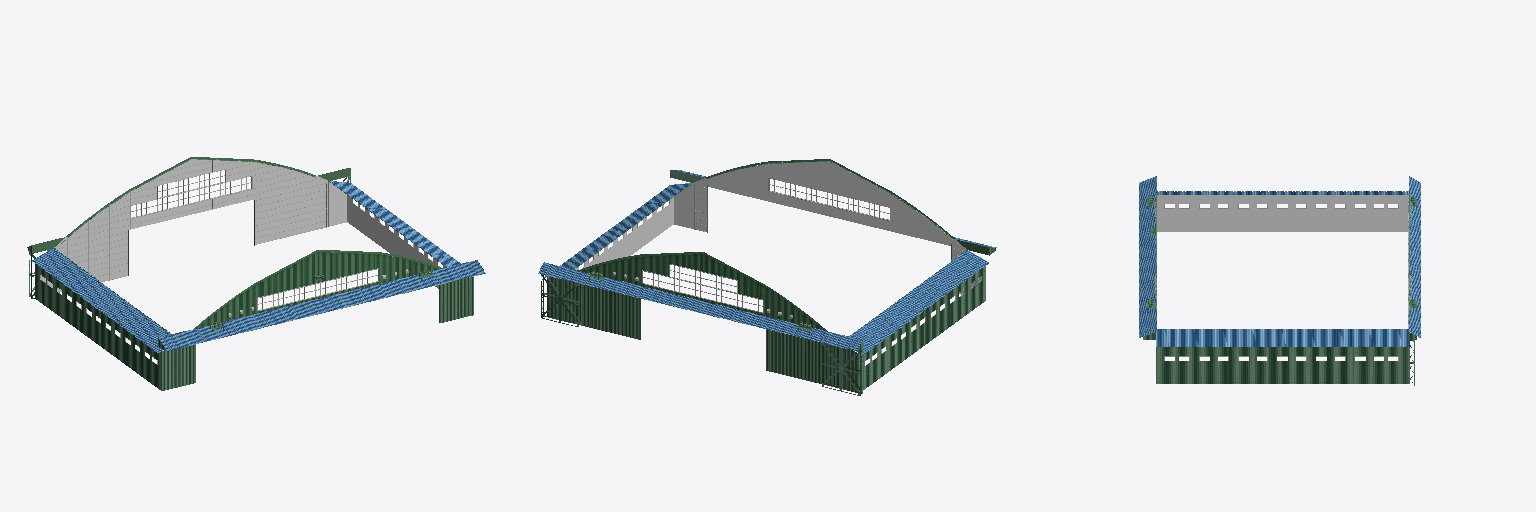
3 views of the same model, side by side, from view 1: azimuth 30°, elevation 25°; view 2: azimuth 150°, elevation 25°; view 3: azimuth 270°, elevation 25° (orthographic).
Size of the model in its own units: 10965 by 3401 by 8400.
Materials: 20 (6 with a texture image).